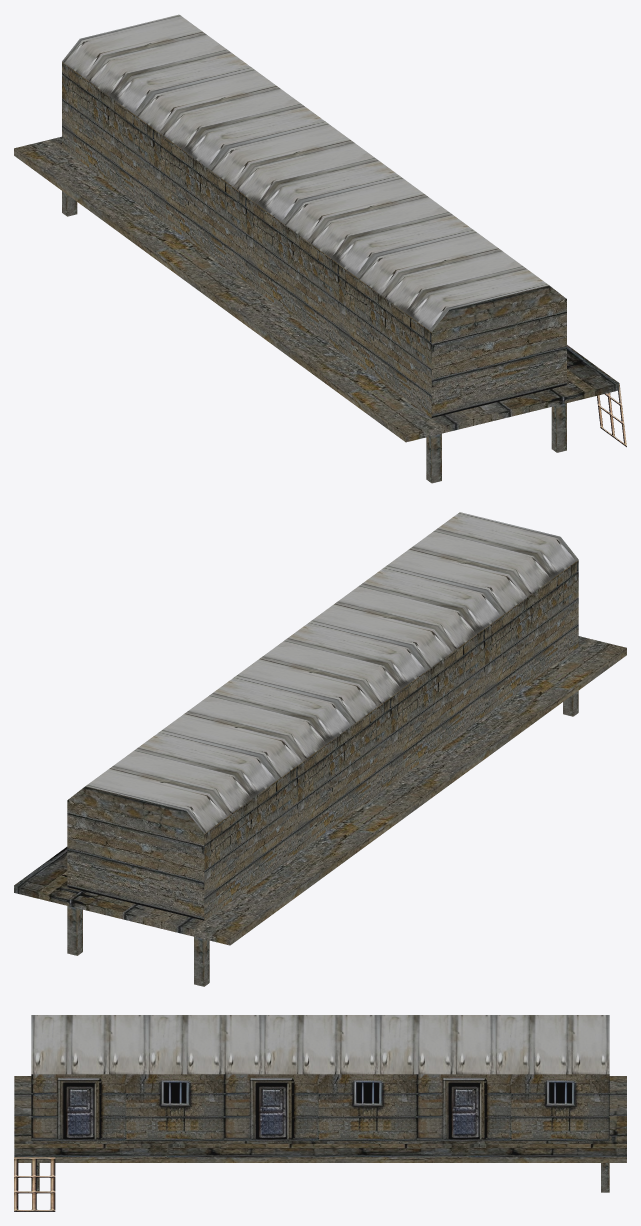
The model's file is s_barracks2_hdtex.glb.
The picture shows the model from 3 angles, top to bottom: view 1: azimuth 30°, elevation 25°; view 2: azimuth 150°, elevation 25°; view 3: azimuth 270°, elevation 25°; orthographic projection. The views are drawn at different scales.
Visible parts, largest first — view 1: Object01; view 2: Object01; view 3: Object01.
Boxes of the visible parts, box(x1,y1,x2,y2) form: Object01: box(14, 14, 626, 483); Object01: box(14, 512, 626, 986); Object01: box(14, 1015, 626, 1211).
Size of the model in its own units: 7.7 by 5.68 by 23.66.
3 materials, 3 textured.
